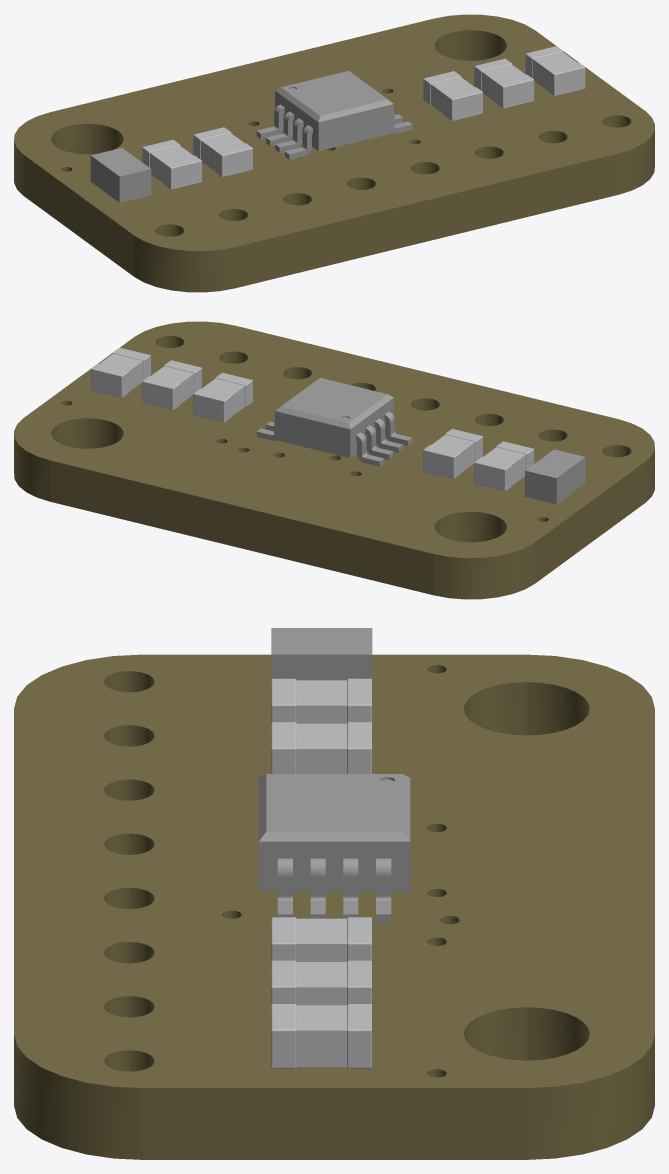
File: ada-1782.glb
The picture shows the model from 3 angles, top to bottom: view 1: azimuth 30°, elevation 25°; view 2: azimuth 150°, elevation 25°; view 3: azimuth 270°, elevation 25°; orthographic projection. The views are drawn at different scales.
Visible parts, largest first — view 1: 0.16666666666666666_0.16666666666666666_0.08333333333333333_, 0.5833333333333334_0.5833333333333334_0.5833333333333334_0.8, 0.3333333333333333_0.3333333333333333_0.3333333333333333_0; view 2: 0.16666666666666666_0.16666666666666666_0.08333333333333333_, 0.5833333333333334_0.5833333333333334_0.5833333333333334_0.8, 0.3333333333333333_0.3333333333333333_0.3333333333333333_0; view 3: 0.16666666666666666_0.16666666666666666_0.08333333333333333_, 0.3333333333333333_0.3333333333333333_0.3333333333333333_0, 0.5833333333333334_0.5833333333333334_0.5833333333333334_0.8.
Boxes of the visible parts, left/top/right/bottom form: 0.16666666666666666_0.16666666666666666_0.08333333333333333_: left=14, top=14, right=654, bottom=292; 0.5833333333333334_0.5833333333333334_0.5833333333333334_0.8: left=142, top=46, right=585, bottom=189; 0.3333333333333333_0.3333333333333333_0.3333333333333333_0: left=90, top=70, right=412, bottom=202; 0.16666666666666666_0.16666666666666666_0.08333333333333333_: left=14, top=321, right=654, bottom=599; 0.5833333333333334_0.5833333333333334_0.5833333333333334_0.8: left=91, top=347, right=534, bottom=491; 0.3333333333333333_0.3333333333333333_0.3333333333333333_0: left=256, top=377, right=585, bottom=504; 0.16666666666666666_0.16666666666666666_0.08333333333333333_: left=14, top=654, right=654, bottom=1159; 0.3333333333333333_0.3333333333333333_0.3333333333333333_0: left=258, top=628, right=410, bottom=923; 0.5833333333333334_0.5833333333333334_0.5833333333333334_0.8: left=271, top=678, right=371, bottom=1068.
Size of the model in its own units: 2.03 by 0.307 by 1.27.
